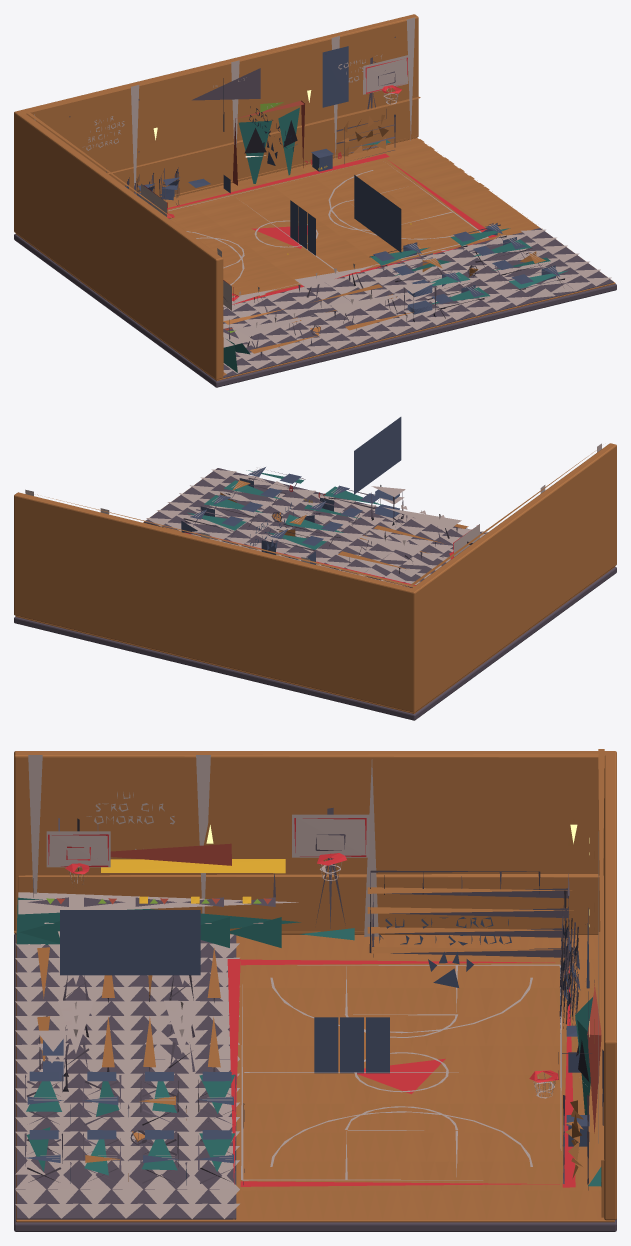
The model's file is int.gym-cafeteria.lod2.glb.
3 renders of one model, top to bottom at view 1: azimuth 30°, elevation 25°; view 2: azimuth 150°, elevation 25°; view 3: azimuth 270°, elevation 25°, orthographic. The views are drawn at different scales.
Visible parts, largest first — view 1: interior, door_entry_0, door_entry_1; view 2: interior; view 3: interior, door_entry_1.
Boxes of the visible parts, x1=… form: interior: x1=14, y1=14, x2=616, y2=387; door_entry_0: x1=238, y1=120, x2=271, y2=183; door_entry_1: x1=278, y1=107, x2=299, y2=175; interior: x1=14, y1=417, x2=616, y2=720; interior: x1=14, y1=749, x2=616, y2=1231; door_entry_1: x1=577, y1=1020, x2=590, y2=1114.
Bounding box in the file's own units: 16 × 4.98 × 14.
